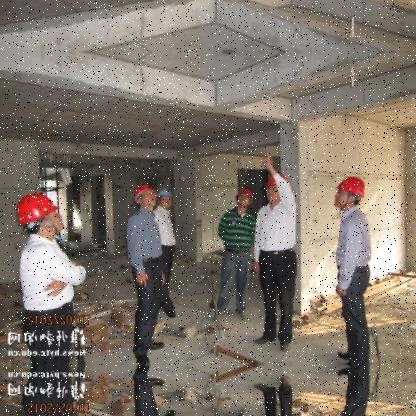helmet: (13, 192, 67, 241), (332, 173, 369, 212), (263, 172, 288, 205), (133, 182, 156, 209), (231, 184, 255, 207), (158, 185, 177, 209)
